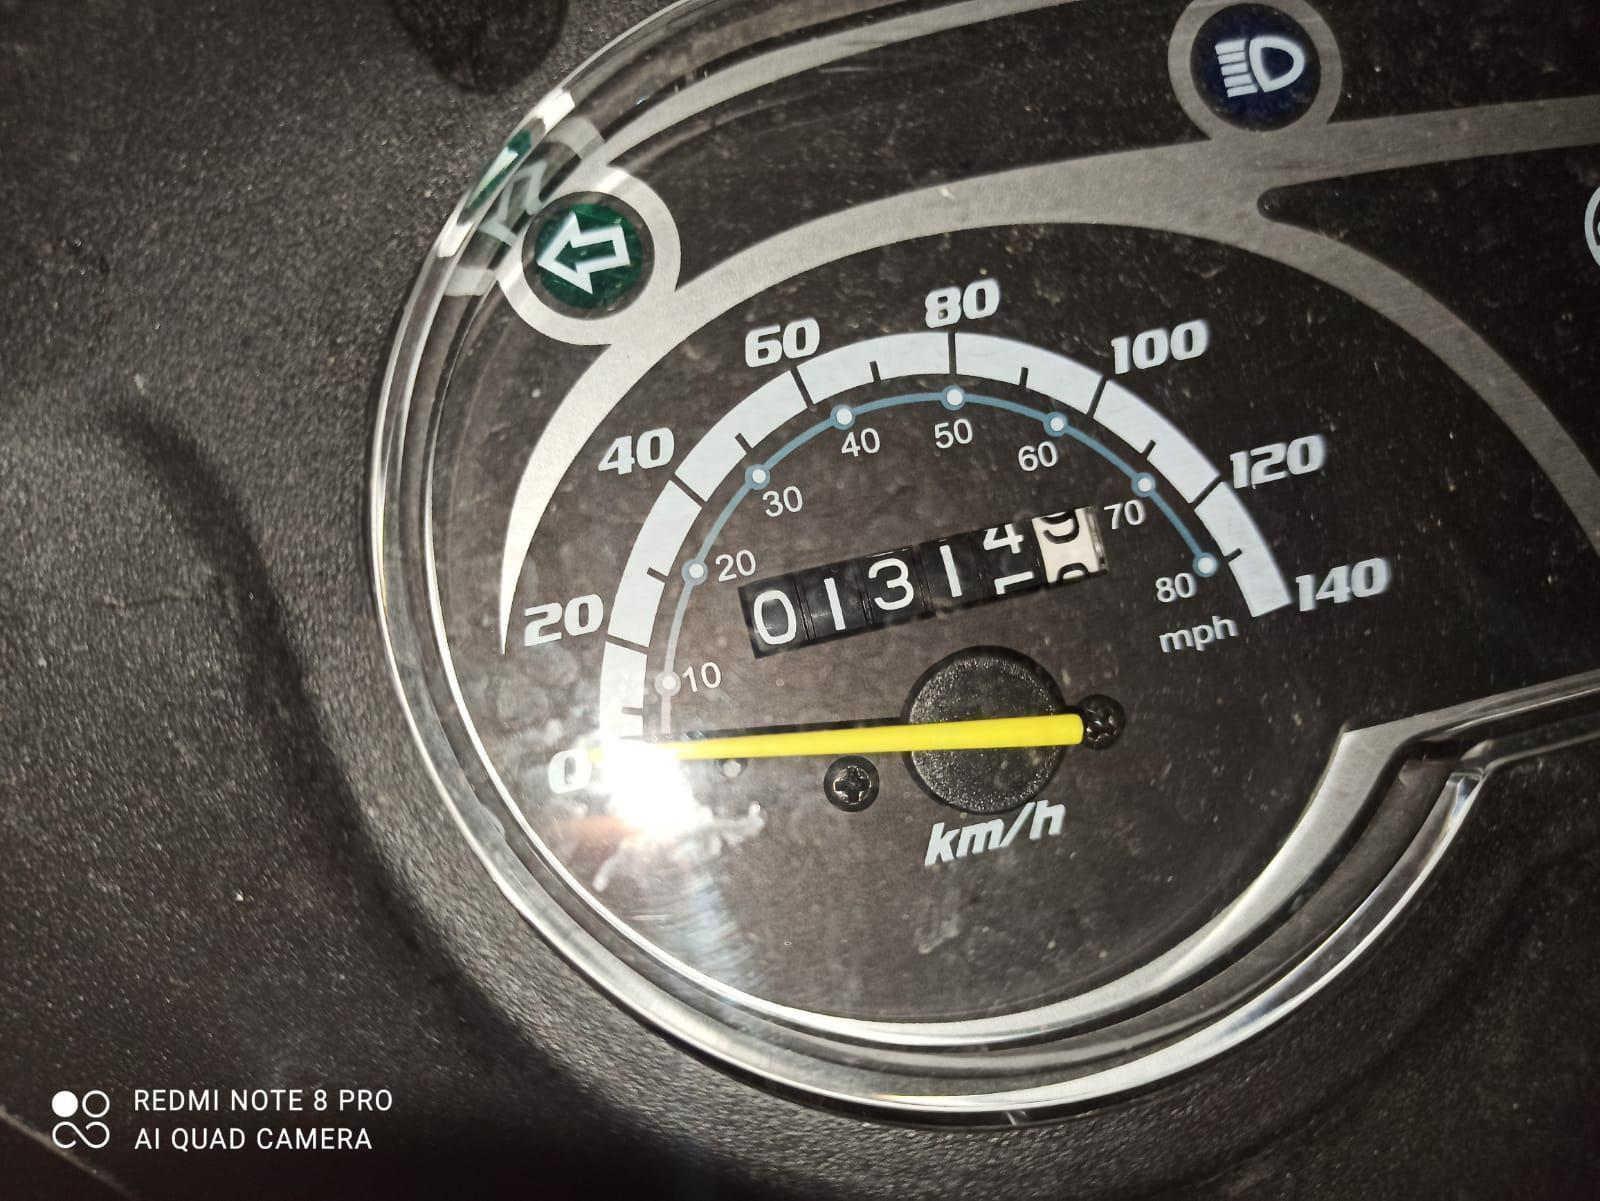0: (750, 588, 803, 648), (782, 483, 806, 516), (734, 548, 758, 575)
1: (814, 574, 853, 635), (936, 540, 968, 603)
3: (866, 554, 919, 614), (760, 489, 782, 516)
4: (979, 518, 1032, 561)
7: (1103, 501, 1124, 532)
9: (1038, 505, 1086, 546)
odometer: (731, 500, 1119, 665)
